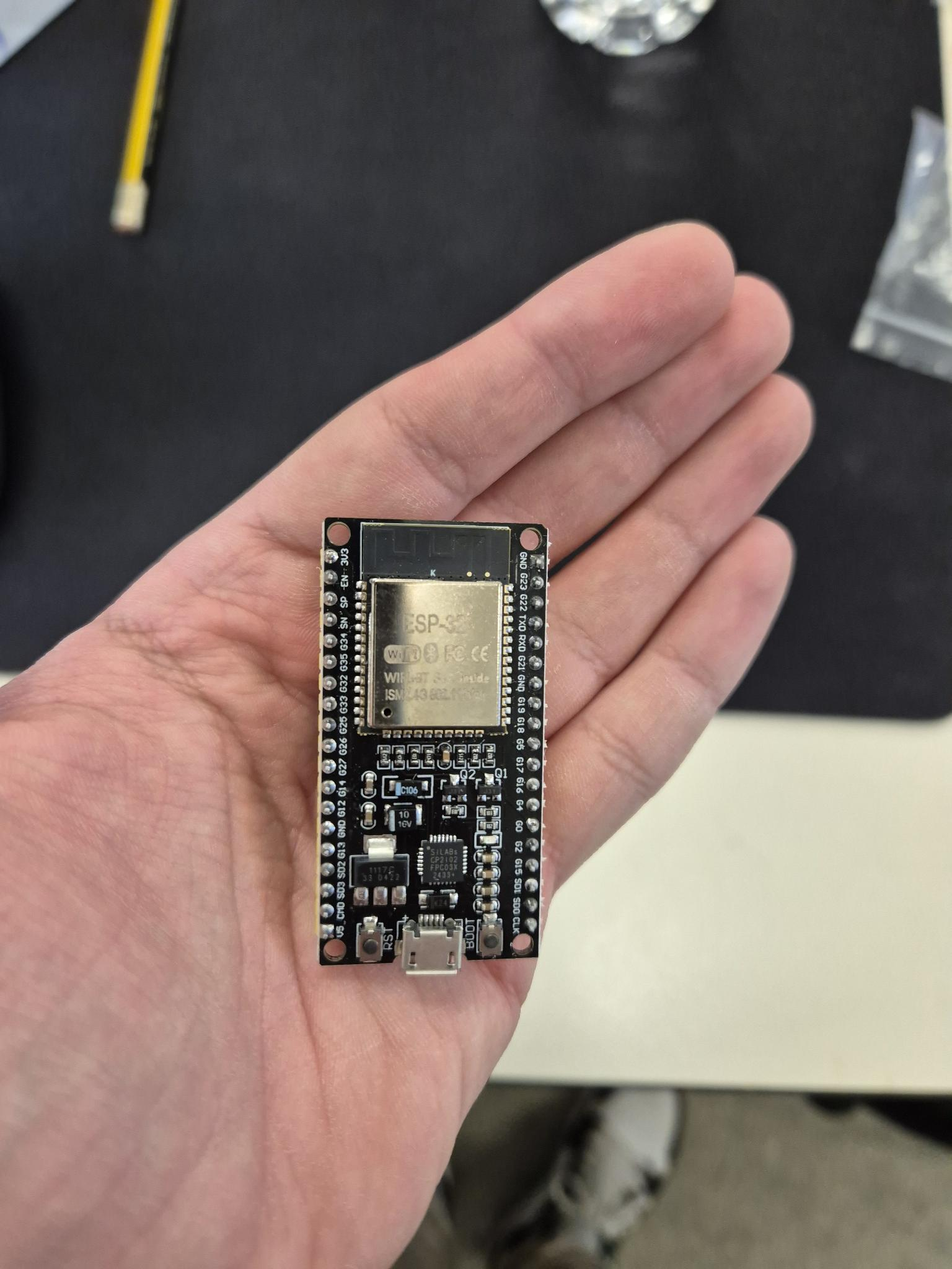esp32-dev: (321, 511, 546, 969)
